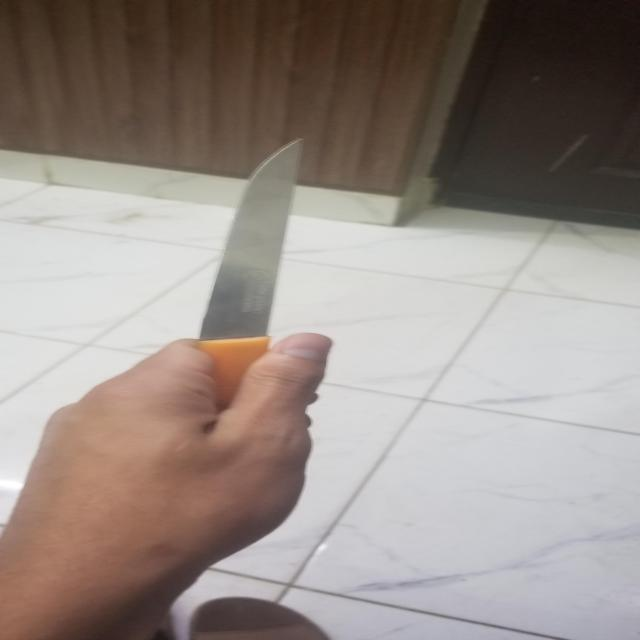Knife: (193, 140, 307, 406)
Person: (0, 332, 337, 640)
